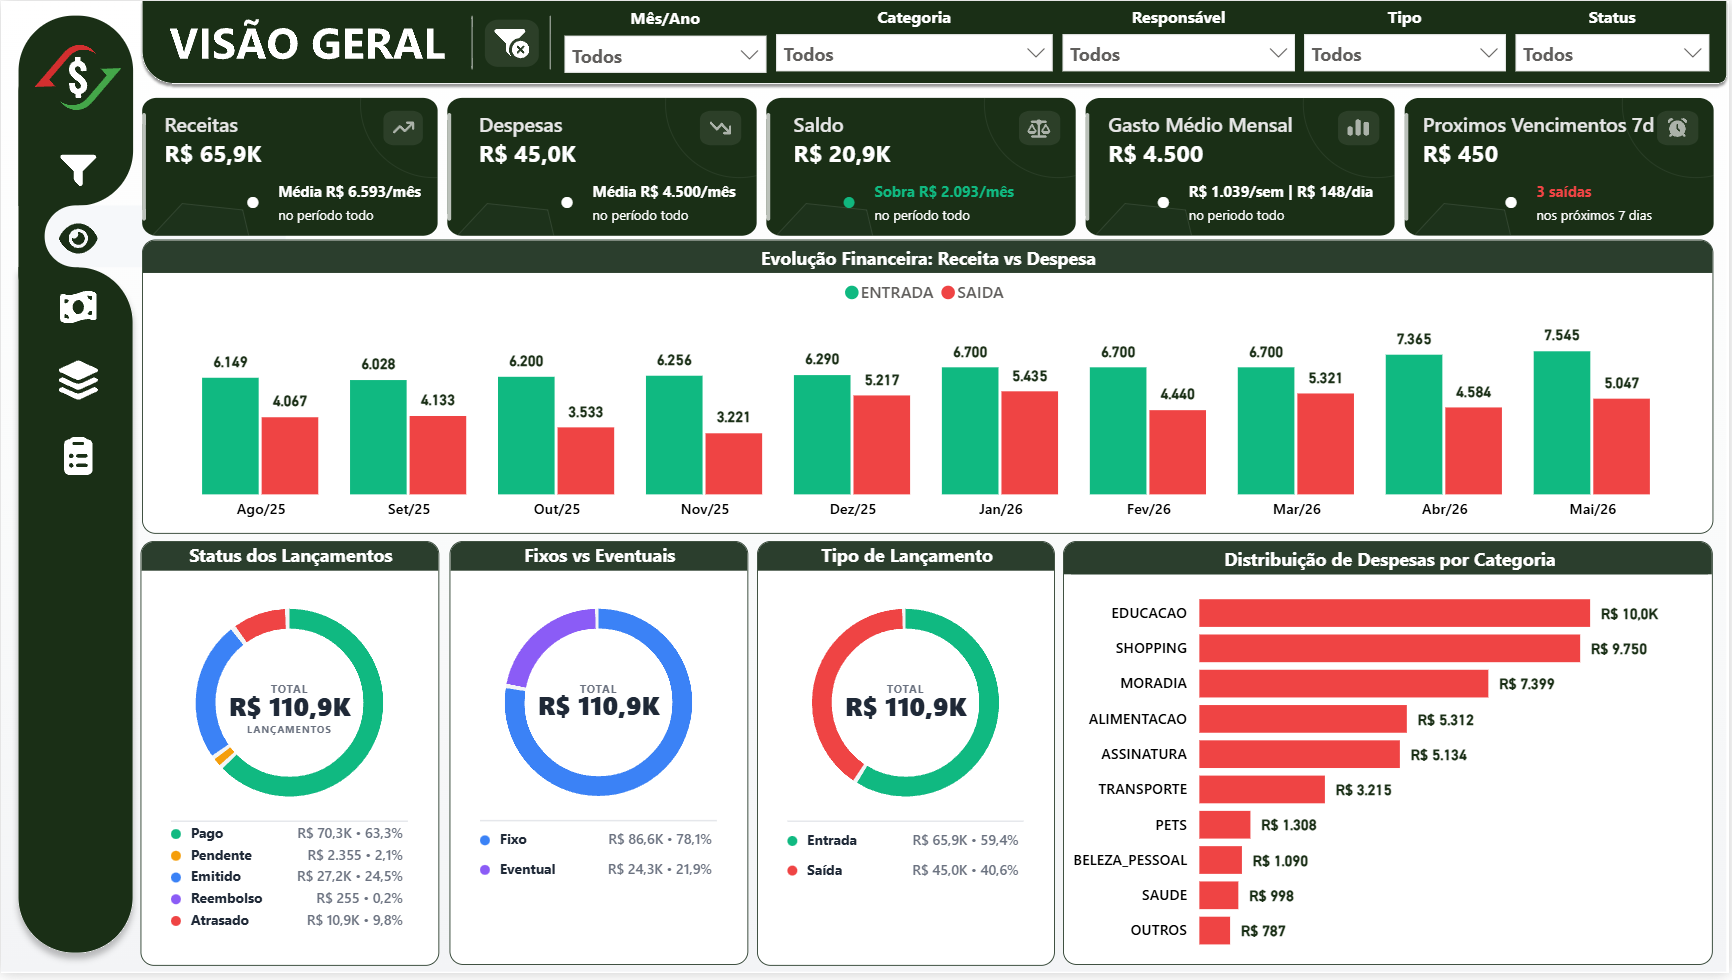

The page's visual inventory and layout, read from the dashboard file:
{"tool":"powerbi","page":{"name":"VISAO_GERAL","canvas":[1280,720],"ordinal":1},"visuals":[{"type":"group","id":"g1","title":"g_filtros","box":[412.3,3,857.8,61.1],"z":0,"group":"g3"},{"type":"slicer","title":"Status","fields":{"Values":["Fact_Lancamentos.STATUS"]},"box":[1116.3,3,153.8,60.4],"z":0,"group":"g1"},{"type":"cardVisual","title":"grid_cartao","fields":{"Data":["_Medidas.Receitas","_Medidas.Despesas","_Medidas.Saldo","_Medidas.Gasto Médio Mensal","_Medidas.Proximos Vencimentos 7d"]},"box":[101.5,62.8,1178.1,112.4],"z":0,"group":"g5"},{"type":"lineClusteredColumnComboChart","title":"Evolução Financeira: Receita vs Despesa","fields":{"Category":["Dim_Calendario.MesAnoTexto"],"Series":["Fact_Lancamentos.TIPO"],"Y":["_Medidas.Valor Evolucao"]},"box":[105,175.6,1163.8,218.1],"z":0,"group":"g2"},{"type":"actionButton","title":"btn_registros","box":[36.2,316.9,40,40],"z":0,"group":"g6"},{"type":"image","title":"Status dos Lançamentos","box":[103.1,399.9,221.3,314.4],"z":0,"group":"g4"},{"type":"group","id":"g2","title":"g_graficos","box":[105,175.6,1163.8,537.4],"z":500,"group":"g5"},{"type":"group","id":"g3","title":"g_topbar","box":[349.7,3,920.4,61.1],"z":1000},{"type":"slicer","title":"Tipo","fields":{"Values":["Fact_Lancamentos.TIPO"]},"box":[959.9,3.5,159.6,60.4],"z":1000,"group":"g1"},{"type":"actionButton","title":"btn_reset_filtros_rapidos","box":[349.7,7.6,56.2,49.7],"z":1000,"group":"g3"},{"type":"actionButton","title":"btn_detalhamento","box":[36.8,261.9,40,40],"z":1000,"group":"g6"},{"type":"clusteredBarChart","title":"Distribuição de Despesas por Categoria","fields":{"Category":["Fact_Lancamentos.CATEGORIA","Fact_Lancamentos.SERVICO"],"Y":["_Medidas.Despesas"]},"box":[787.6,399,481.1,314],"z":1000,"group":"g2"},{"type":"group","id":"g4","title":"g_donnuts","box":[103.1,399.7,678.9,314.4],"z":1000,"group":"g5"},{"type":"image","title":"Fixos vs Eventuais","box":[331.6,399.7,221.2,314],"z":1000,"group":"g4"},{"type":"slicer","title":"Responsável","fields":{"Values":["Fact_Lancamentos.RESPONSAVEL"]},"box":[780.6,3,182.5,60.4],"z":2000,"group":"g1"},{"type":"actionButton","title":"btn_lancamentos","box":[36,206.7,40,40],"z":2000,"group":"g6"},{"type":"image","title":"Tipo de Lançamento","box":[560.2,399.7,221,314.4],"z":2000,"group":"g4"},{"type":"cardVisual","title":"Fixos vs Eventuais","fields":{"Data":["_Medidas.Recorrencia"]},"box":[331.3,400,221.3,313.3],"z":2000,"group":"g7"},{"type":"cardVisual","title":"Status dos Lançamentos","fields":{"Data":["_Medidas.Status"]},"box":[101.3,400.4,222.1,312.9],"z":2500,"group":"g7"},{"type":"slicer","title":"Categoria","fields":{"Values":["Fact_Lancamentos.CATEGORIA"]},"box":[568.7,3,215.1,60.4],"z":3000,"group":"g1"},{"type":"group","id":"g5","title":"g_dados","box":[101.3,62.8,1178.3,651.3],"z":3000},{"type":"actionButton","title":"btn_visao_geral","box":[36,155.5,40,40],"z":3000,"group":"g6"},{"type":"group","id":"g6","title":"g_btn_navegção","box":[23.1,26.7,67.4,330.2],"z":3250},{"type":"group","id":"g7","title":"g_tooltips","box":[101.3,400,451.3,313.3],"z":3501,"group":"g5"},{"type":"slicer","title":"Mês/Ano","fields":{"Values":["Dim_Calendario.MesAnoTexto"]},"box":[412.3,3.7,159.6,60.4],"z":4000,"group":"g1"},{"type":"actionButton","title":"btn_menu_on","box":[36.7,105,40,40],"z":4000,"group":"g6"},{"type":"actionButton","title":"btn_home","box":[23.1,26.7,67.4,60.9],"z":5000,"group":"g6"}]}

Visuals, with their boxes in screenshot pixels (x1, y1, x2, y2), scaled from the page's 1280x720 canvas onto the 1732x980 screenshot:
"g_filtros" group: box(558, 4, 1719, 87)
"Status" slicer: box(1510, 4, 1719, 86)
"grid_cartao" cardVisual: box(137, 85, 1731, 238)
"Evolução Financeira: Receita vs Despesa" lineClusteredColumnComboChart: box(142, 239, 1717, 536)
"btn_registros" actionButton: box(49, 431, 103, 486)
"Status dos Lançamentos" image: box(140, 544, 439, 972)
"g_graficos" group: box(142, 239, 1717, 970)
"g_topbar" group: box(473, 4, 1719, 87)
"Tipo" slicer: box(1299, 5, 1515, 87)
"btn_reset_filtros_rapidos" actionButton: box(473, 10, 549, 78)
"btn_detalhamento" actionButton: box(50, 356, 104, 411)
"Distribuição de Despesas por Categoria" clusteredBarChart: box(1066, 543, 1717, 970)
"g_donnuts" group: box(140, 544, 1058, 972)
"Fixos vs Eventuais" image: box(449, 544, 748, 971)
"Responsável" slicer: box(1056, 4, 1303, 86)
"btn_lancamentos" actionButton: box(49, 281, 103, 336)
"Tipo de Lançamento" image: box(758, 544, 1057, 972)
"Fixos vs Eventuais" cardVisual: box(448, 544, 748, 971)
"Status dos Lançamentos" cardVisual: box(137, 545, 438, 971)
"Categoria" slicer: box(770, 4, 1061, 86)
"g_dados" group: box(137, 85, 1731, 972)
"btn_visao_geral" actionButton: box(49, 212, 103, 266)
"g_btn_navegção" group: box(31, 36, 122, 486)
"g_tooltips" group: box(137, 544, 748, 971)
"Mês/Ano" slicer: box(558, 5, 774, 87)
"btn_menu_on" actionButton: box(50, 143, 104, 197)
"btn_home" actionButton: box(31, 36, 122, 119)
